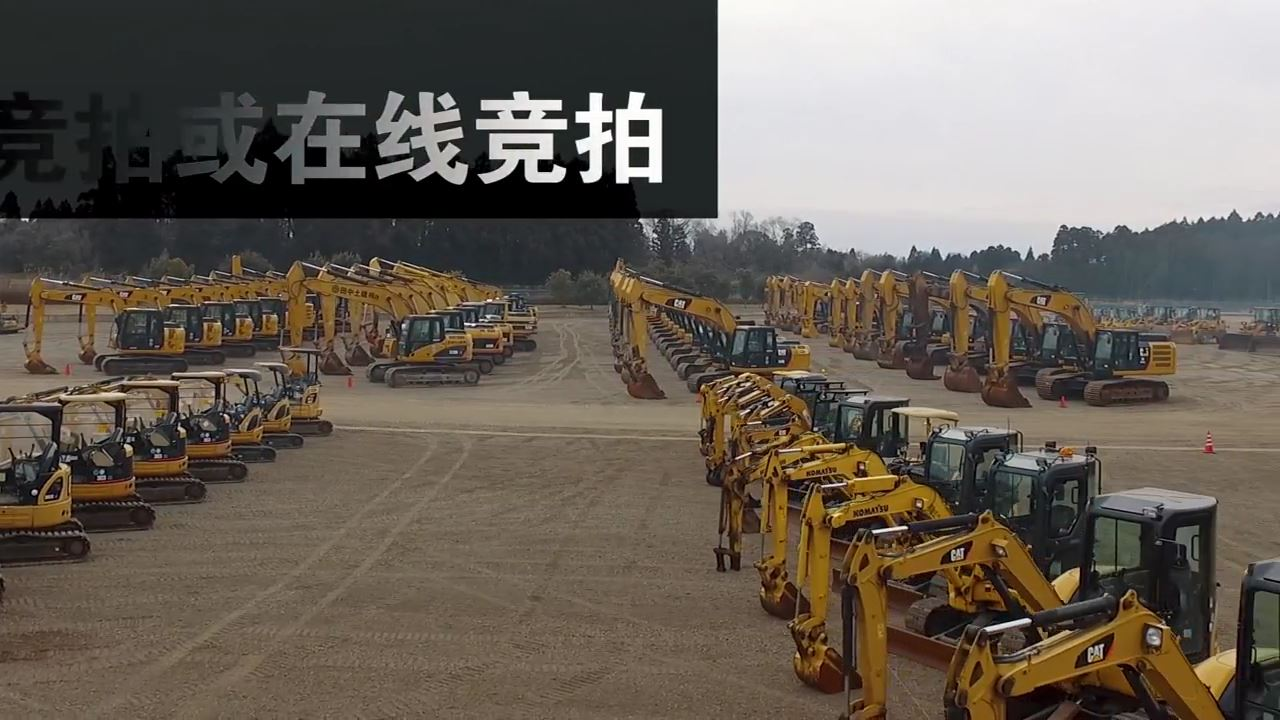con_eq: (849, 483, 1215, 712), (795, 450, 1077, 690), (764, 429, 1020, 622), (711, 404, 960, 578), (945, 600, 1214, 713), (283, 261, 498, 386), (988, 268, 1175, 407), (616, 272, 817, 372), (26, 277, 193, 376), (98, 380, 209, 508), (52, 394, 154, 530), (8, 396, 85, 570), (175, 372, 249, 484), (217, 369, 279, 461), (946, 266, 985, 392), (251, 361, 306, 448), (903, 268, 946, 378), (285, 349, 334, 437), (878, 264, 901, 368), (198, 298, 232, 366), (854, 260, 876, 359), (503, 297, 536, 358), (839, 275, 862, 355), (234, 298, 259, 357), (261, 296, 280, 349)
